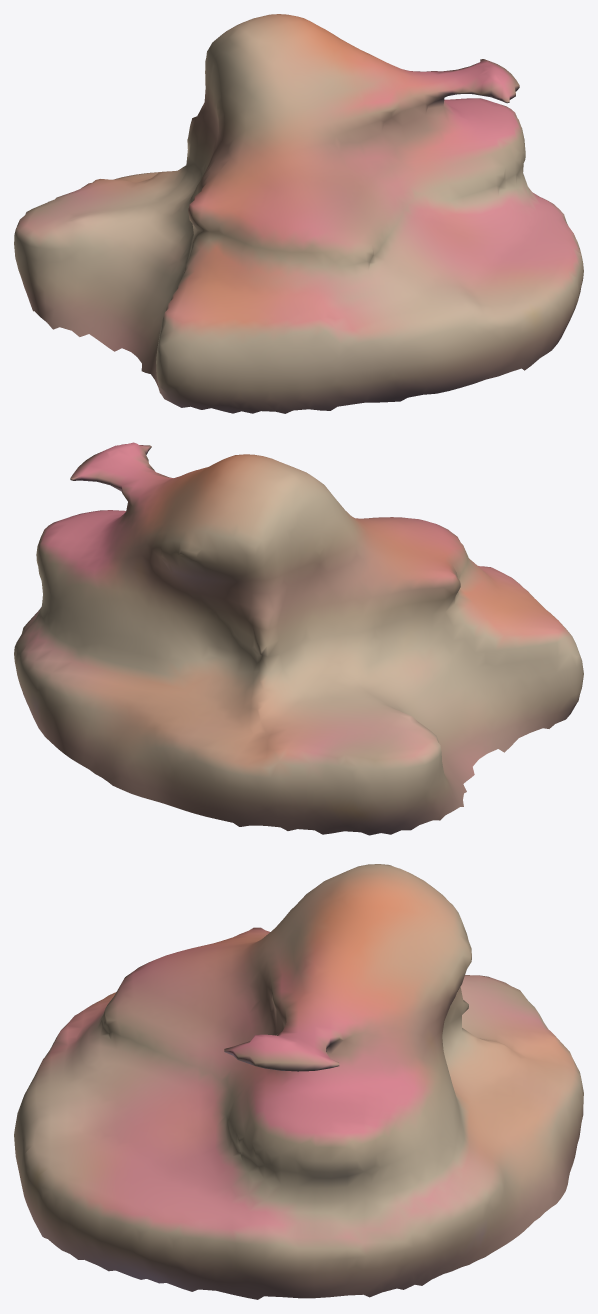
File: Reef_Stack_02.glb
3 views of the same model, one above another, from view 1: azimuth 30°, elevation 25°; view 2: azimuth 150°, elevation 25°; view 3: azimuth 270°, elevation 25° (orthographic). The views are drawn at different scales.
Parts seen in each view (by area): view 1: Reef_Stack_02; view 2: Reef_Stack_02; view 3: Reef_Stack_02.
Part boxes in pixels (x1,y1,x2,y2): Reef_Stack_02: (14, 14, 583, 413); Reef_Stack_02: (14, 442, 583, 835); Reef_Stack_02: (14, 864, 583, 1299).
Bounding box in the file's own units: 21.46 × 12.27 × 20.74.
